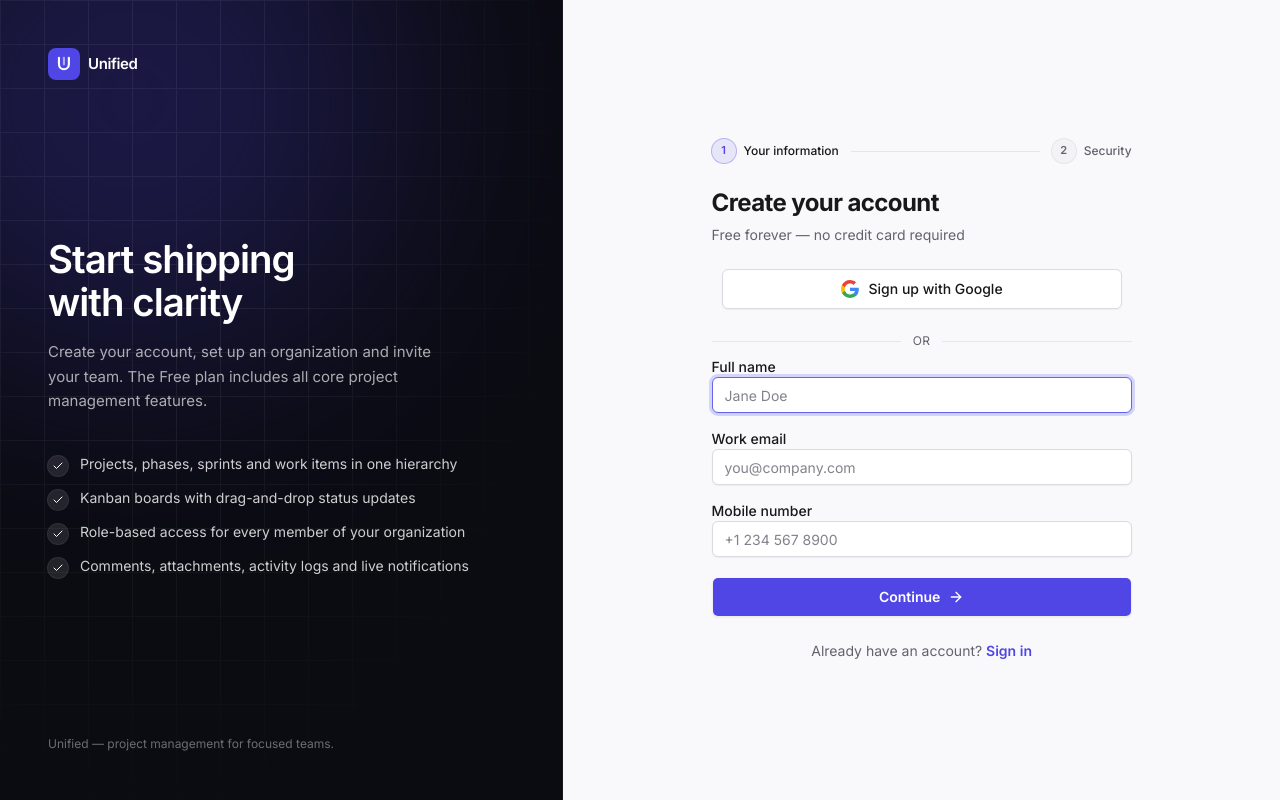
Test: Register Page Component › should show password strength and mismatch validations on step 1
In the field labelled "Full name": point(922, 395) 712,377 -> 1132,413, type "John Doe"
In the field labelled "Work email": point(922, 467) 712,449 -> 1132,485, type "john@example.com"
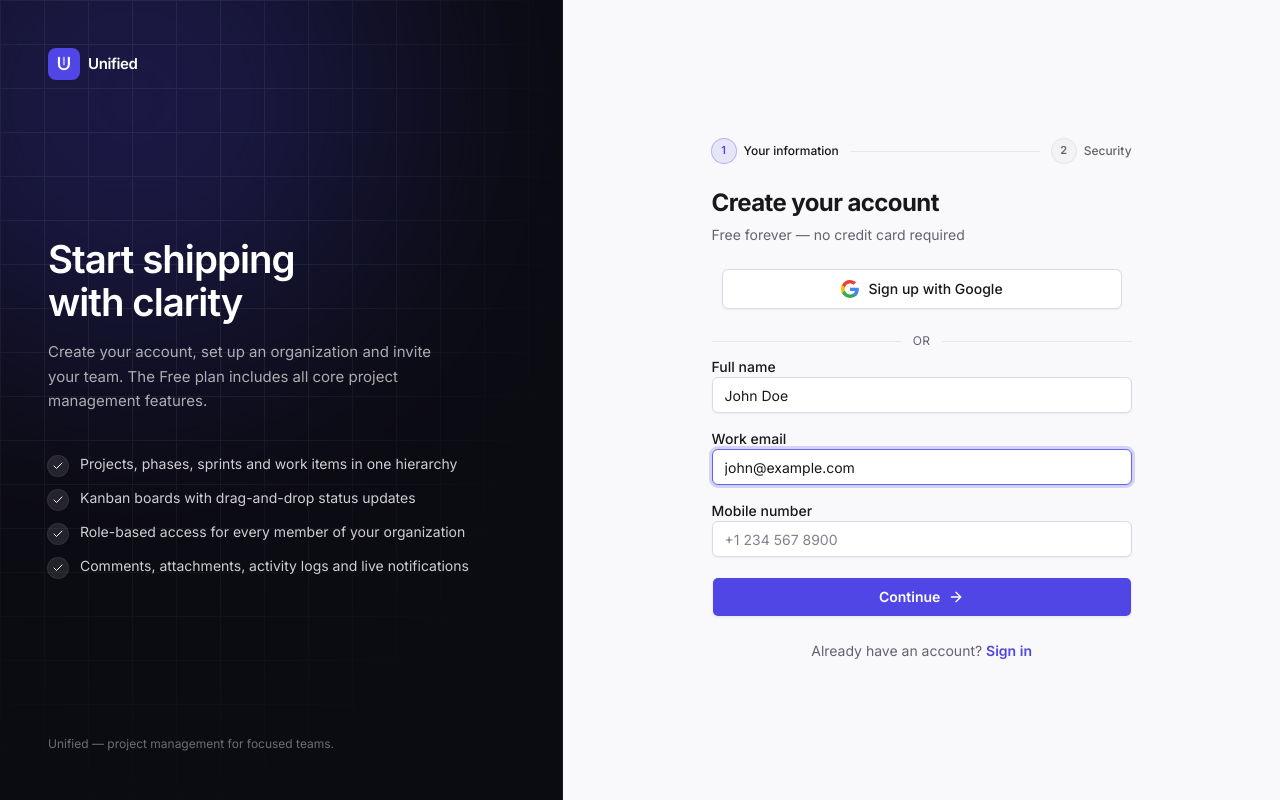
In the field labelled "Mobile number": point(922, 539) 712,521 -> 1132,557, type "+12345678901"
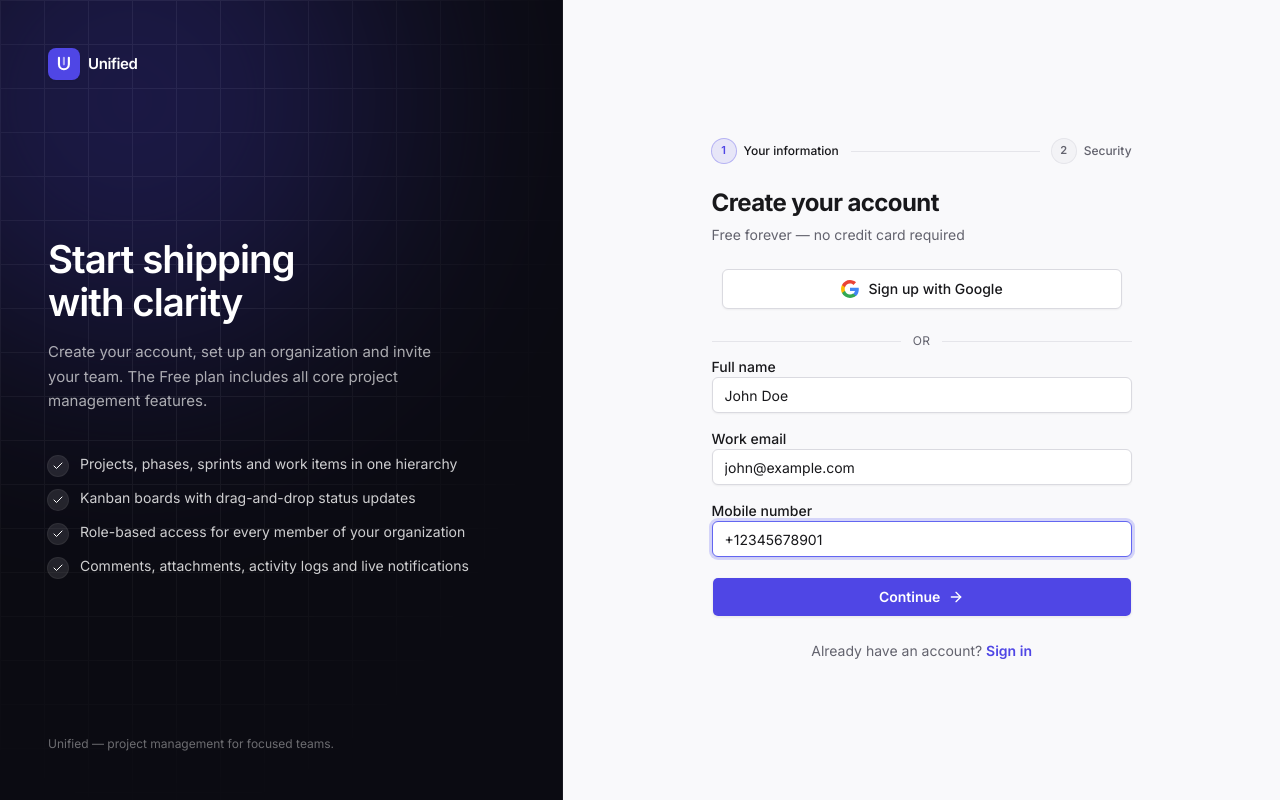
Click the button "Continue": point(922, 597) 712,577 -> 1132,617
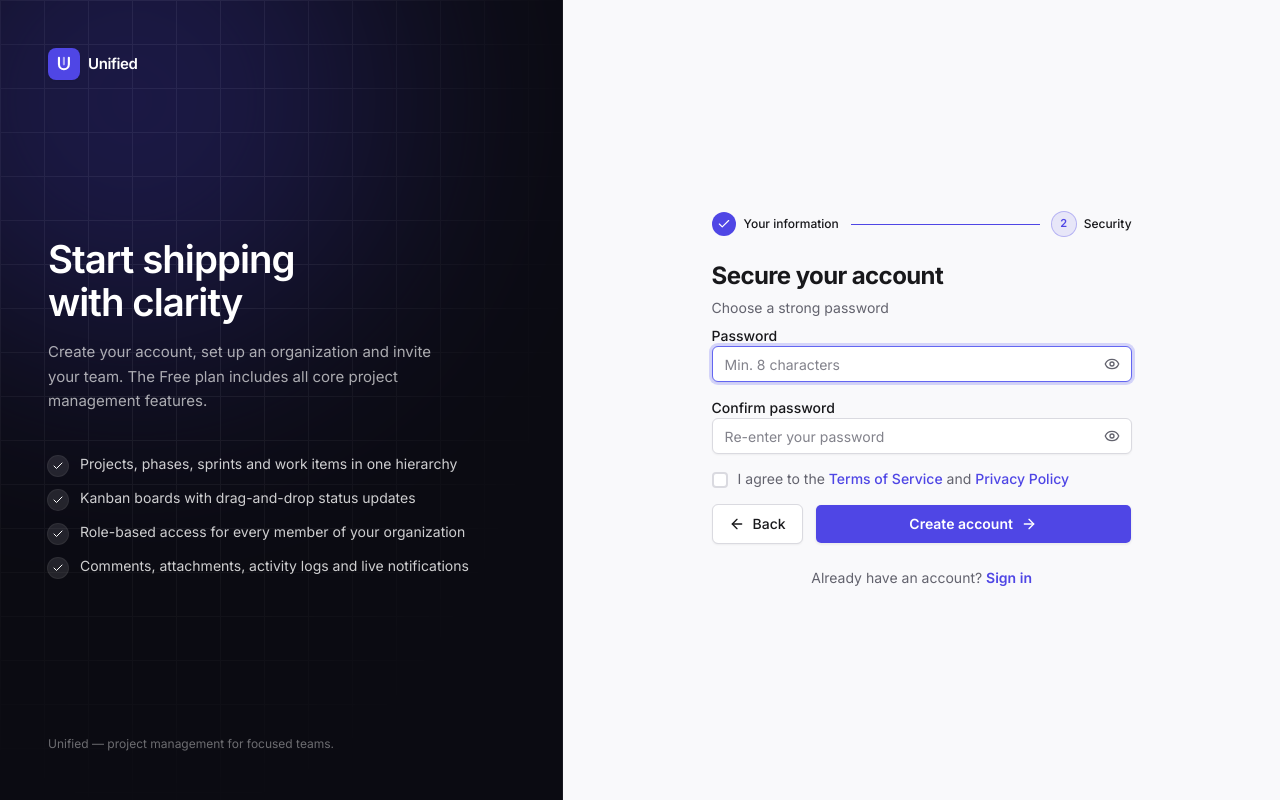
Expected: the password field labelled "Password" is shown
In the password field labelled "Password": point(922, 364) 712,346 -> 1132,382, type "Password123"
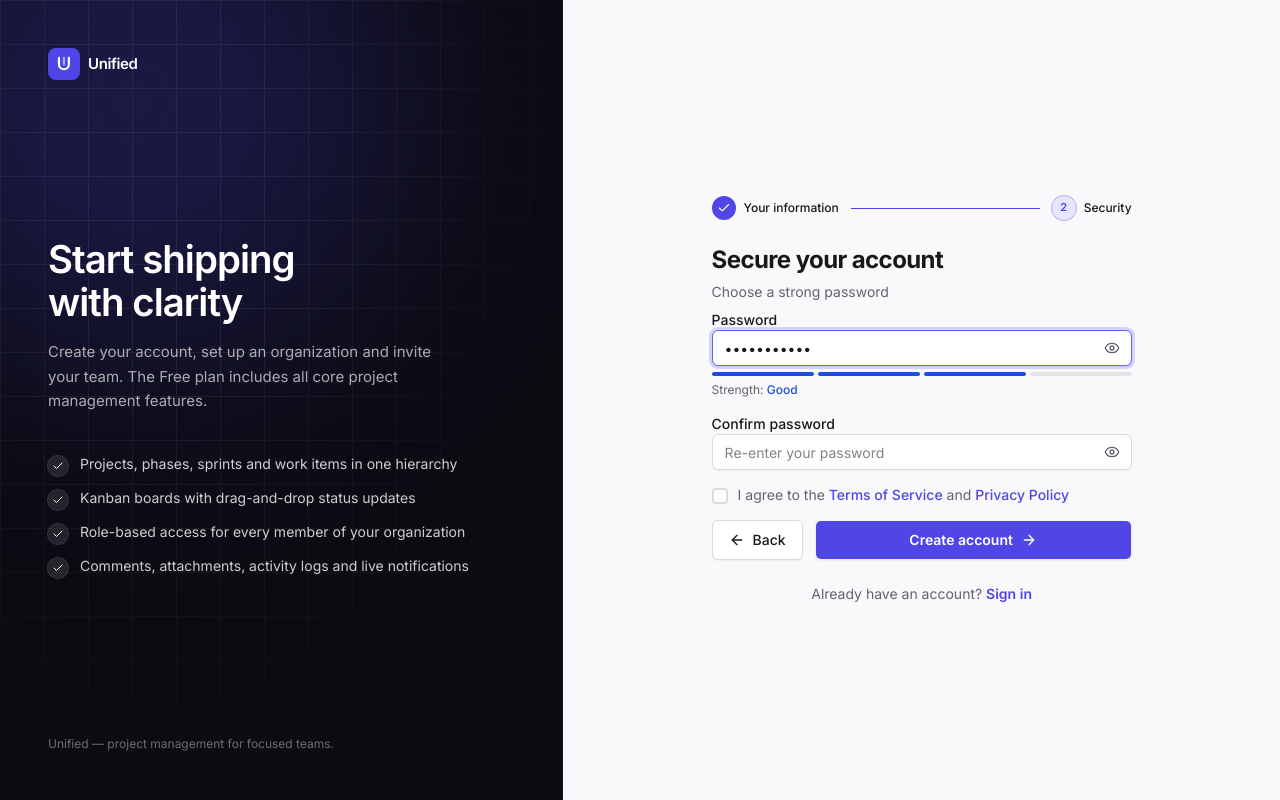
Expected: the text "Strength: Good" is shown, 712,382 -> 798,397
Expected: the text "Good" is shown, 767,382 -> 798,397
# Check the terms checkbox so field-level validations pass
Click the checkbox: point(922, 495) 712,486 -> 1132,504
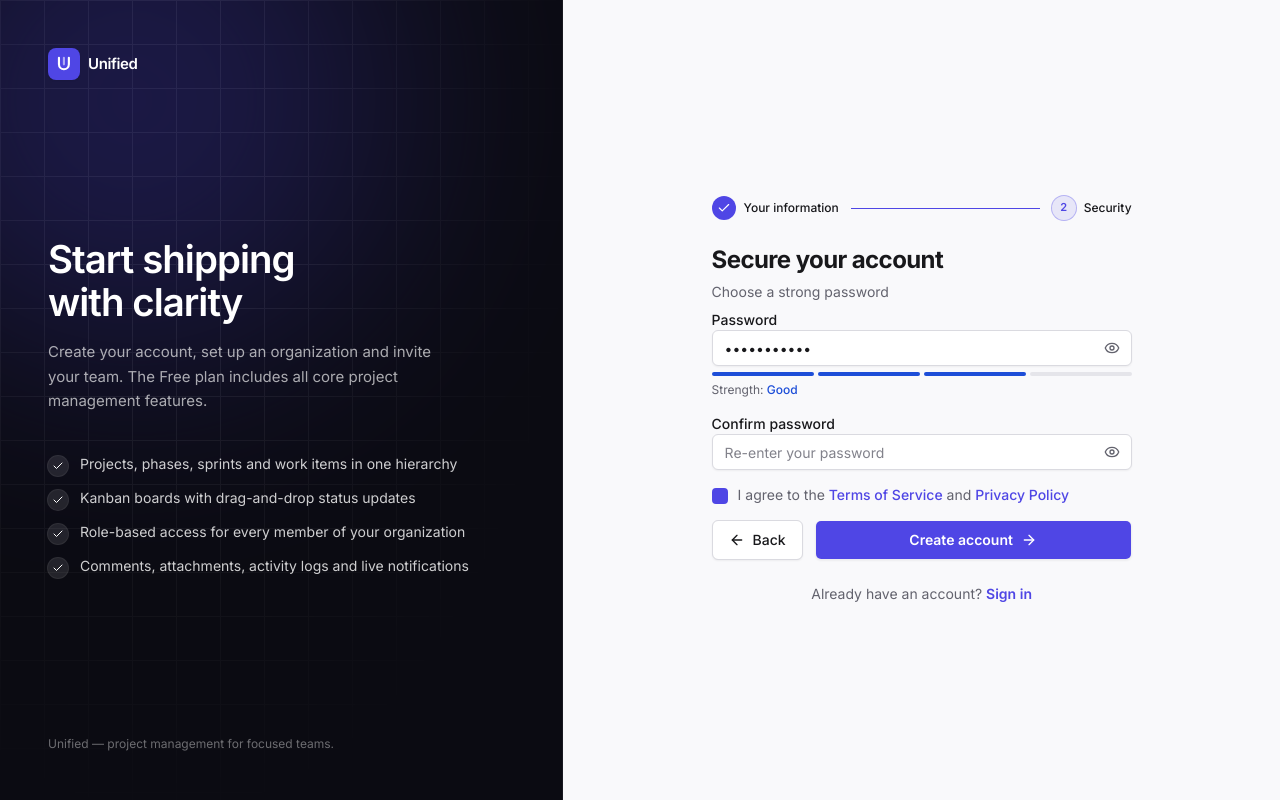
In the password field labelled "Confirm password": point(922, 452) 712,434 -> 1132,470, type "Password456"
Click the button "Create account": point(973, 540) 815,520 -> 1132,560
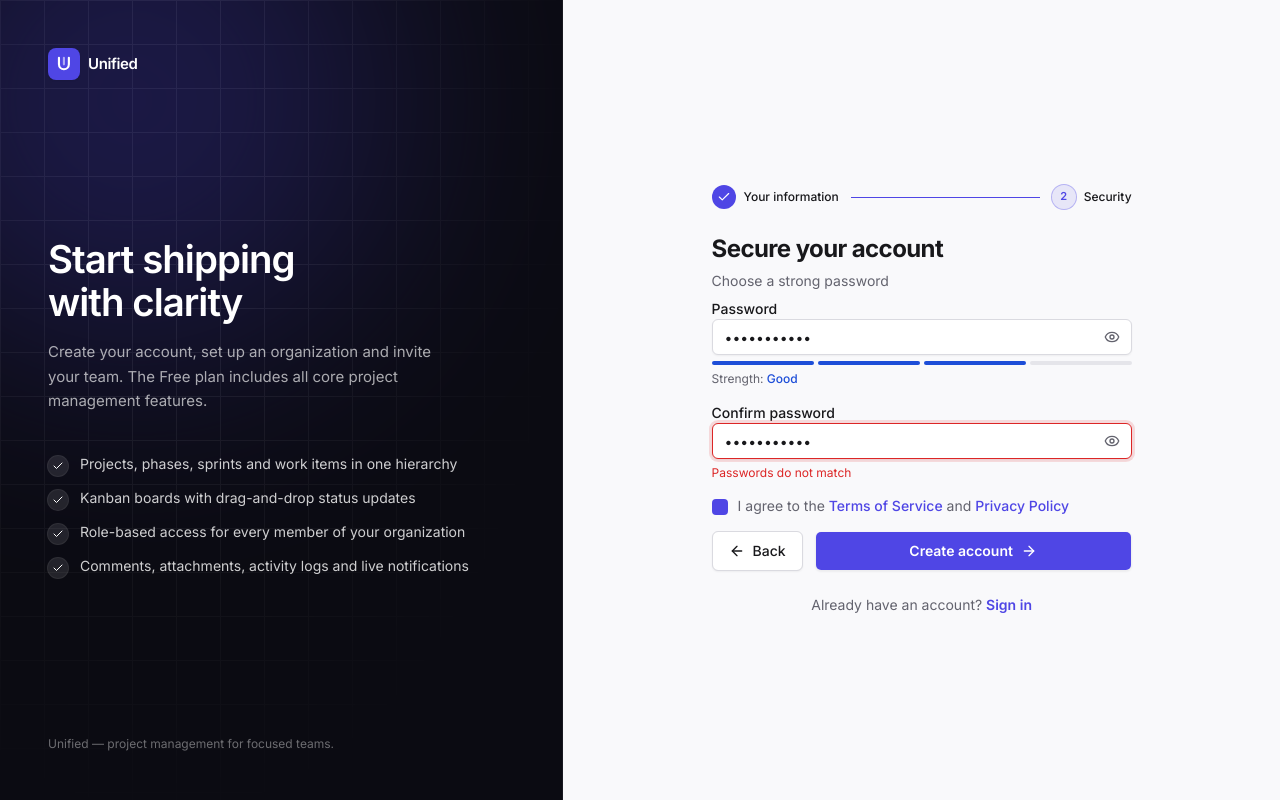
Expected: the text "Passwords do not match" is shown, 712,465 -> 851,480
